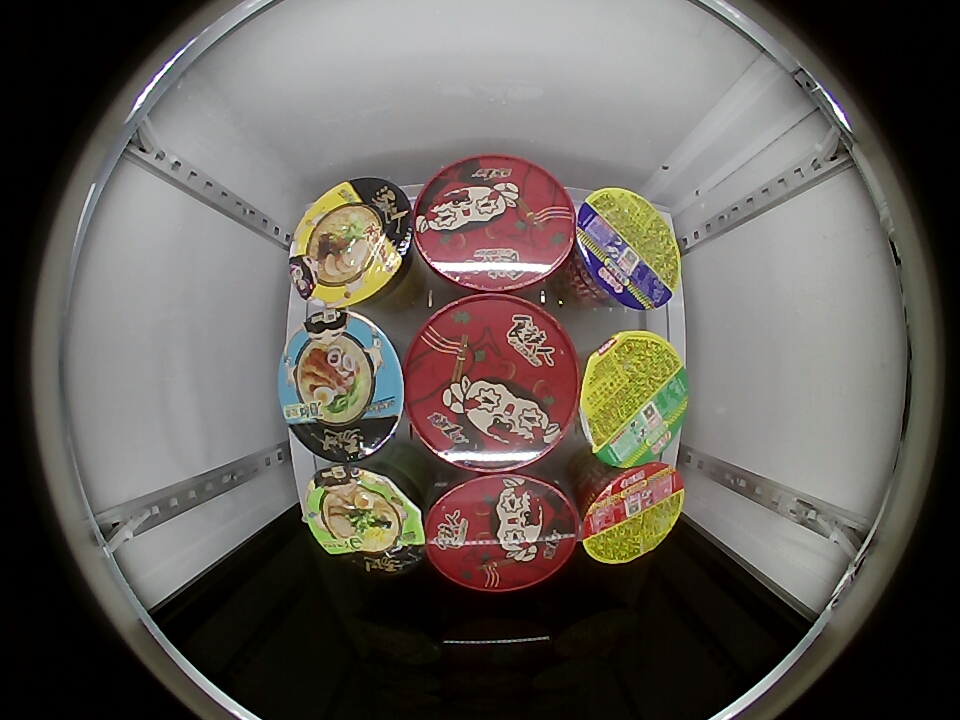heweidao: (573, 186, 681, 310)
heweidao2: (578, 330, 688, 467)
heweidao3: (577, 462, 685, 565)
suanlafen: (403, 294, 581, 471), (412, 156, 577, 293), (424, 470, 580, 592)
tangdaren: (301, 464, 428, 575)
tangdaren2: (290, 177, 416, 308)
tangdaren3: (280, 310, 405, 463)
